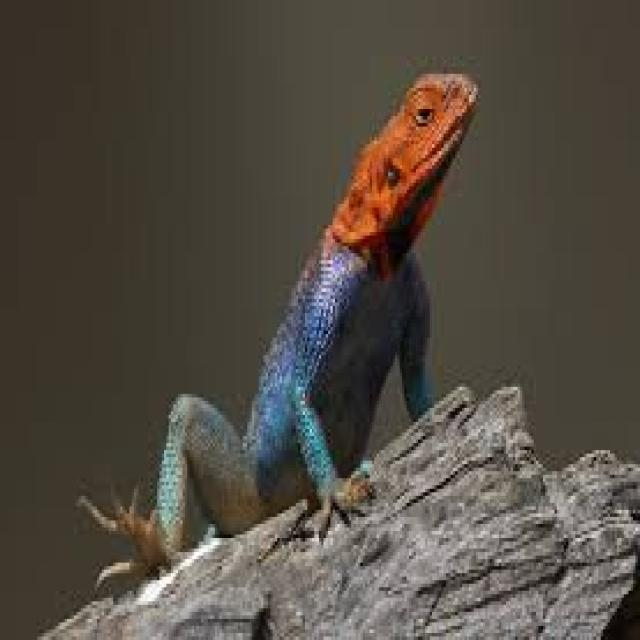Lizard: (94, 59, 484, 578)
